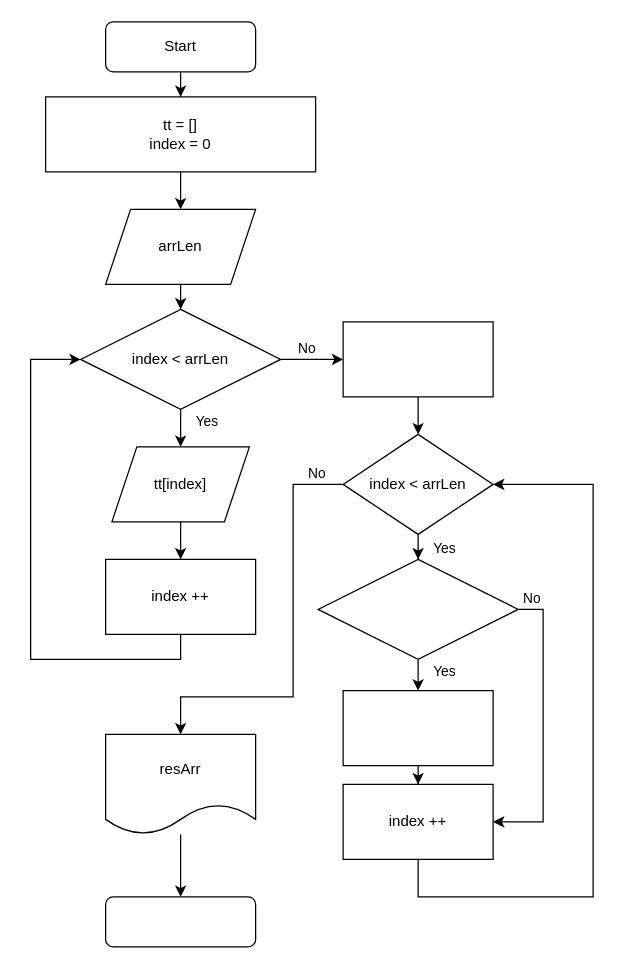
Image size: 625x969. Some labels were removed from this diagram. The shapes that lost their labels are listed below. From the top down, each one's box as (x1, y1, x2, y2) in pixels, then its label:
(342, 321, 493, 397): index = 0 countNewArr = 0 resArr = []
(317, 558, 518, 659): tt[index].Lenght < 4
(342, 689, 493, 766): resArr[countNewArr] = tt[index] countNewArr ++
(104, 896, 256, 947): End
